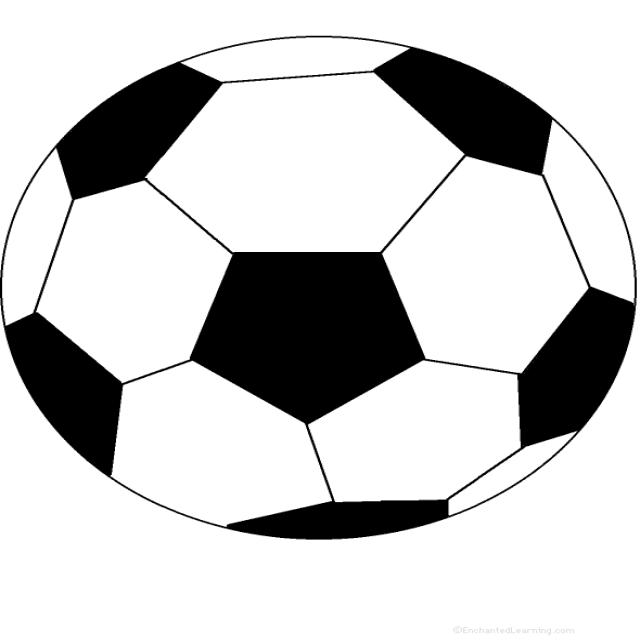soccer ball: (4, 36, 640, 538)
